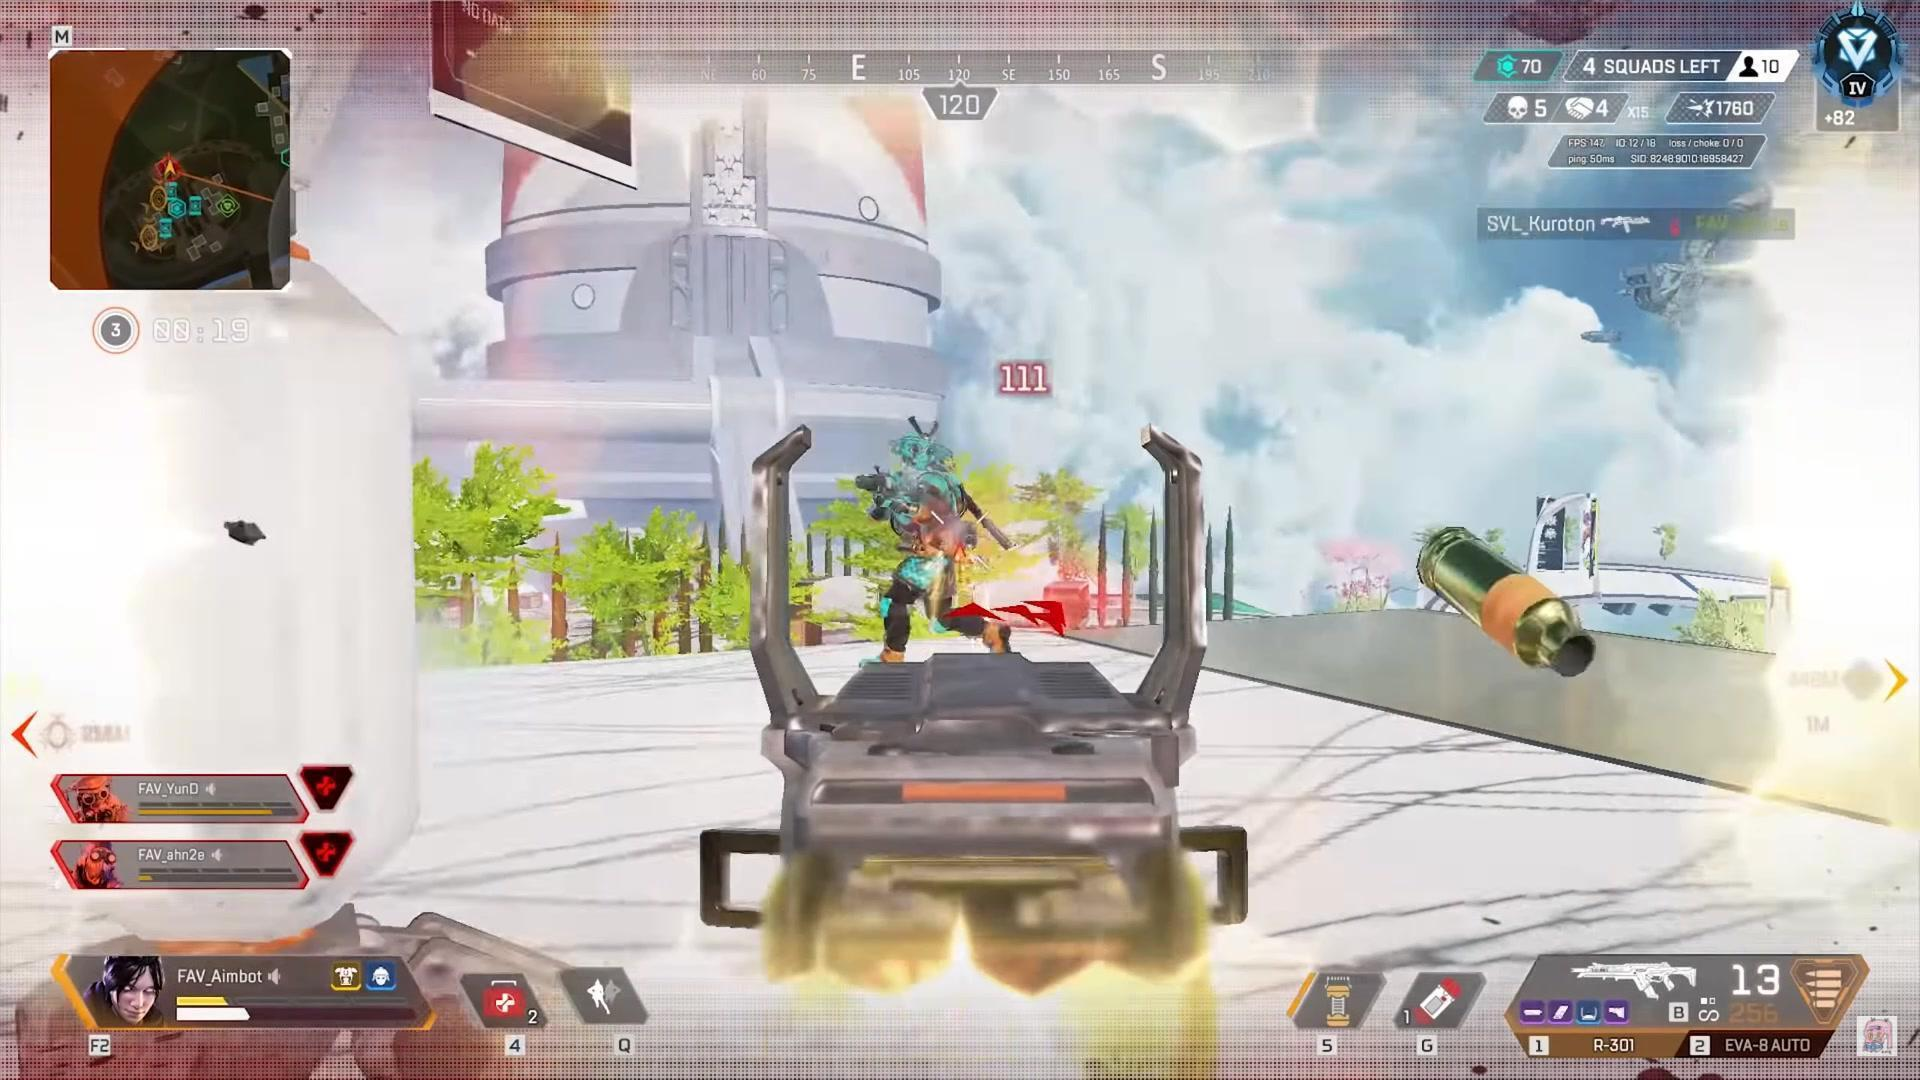avatar: (873, 431, 967, 662)
